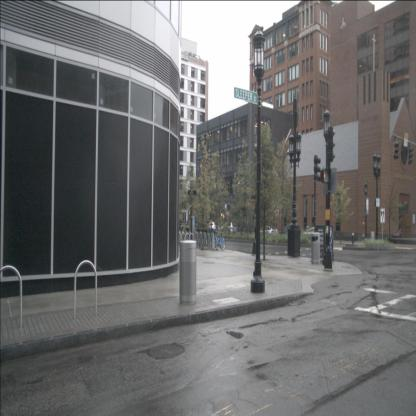vehicle-car: (278, 224, 300, 240), (303, 227, 324, 241), (260, 226, 279, 239), (220, 221, 237, 232), (206, 222, 216, 231)
